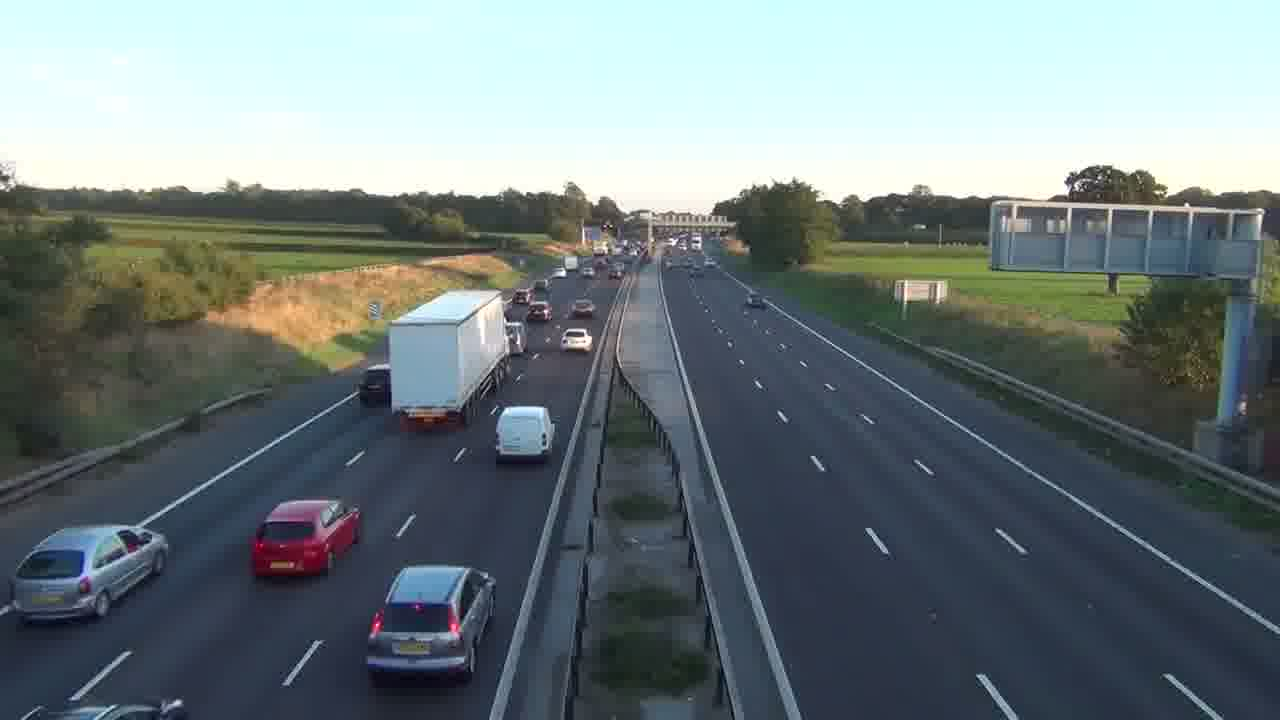car: (365, 562, 498, 687), (11, 523, 171, 626), (250, 497, 363, 579), (561, 327, 593, 352), (570, 298, 595, 318)
truck: (387, 289, 509, 431), (359, 365, 391, 407)
